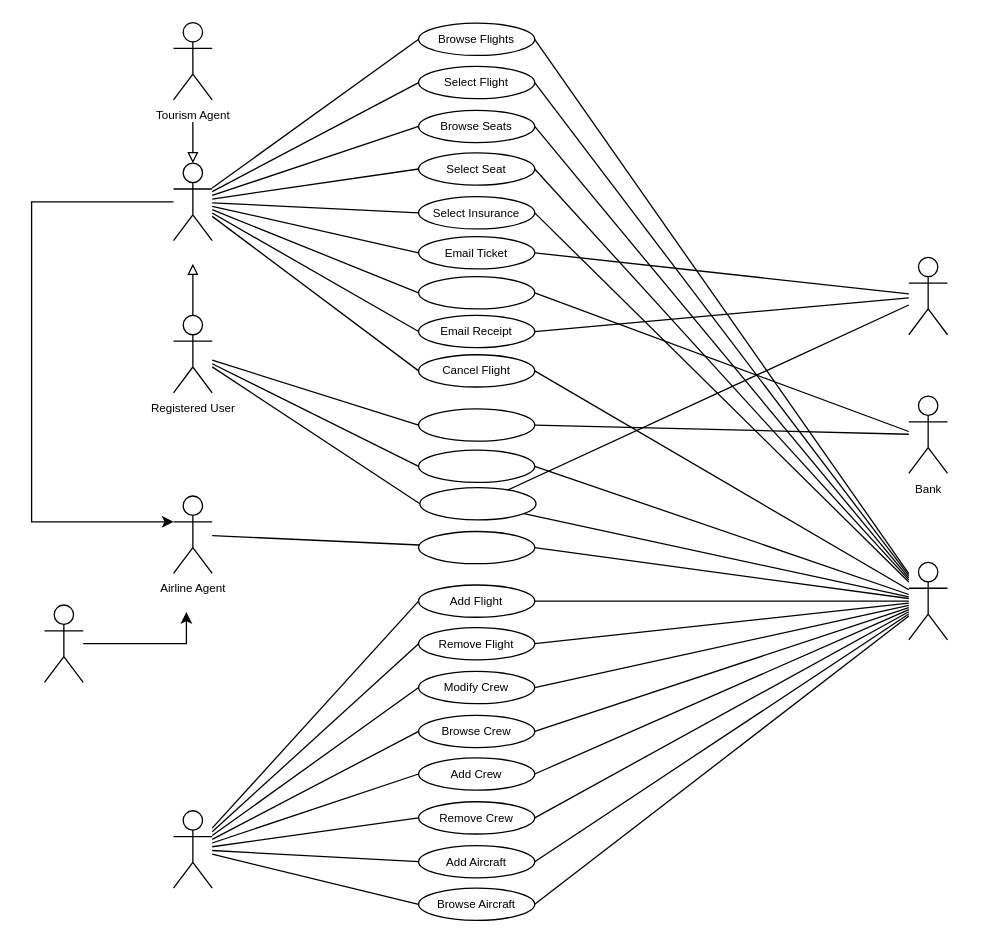
Some shapes in this 984 by 943 pixel diagram are drawn without their labels. Here are the shapes that lost their labels. From the top down, the centre of each, then its label:
the point at 192,201: User
the point at 476,292: Make Payment
the point at 928,295: Email Server
the point at 476,424: Card Application
the point at 476,465: Register Membership
the point at 477,503: Receive Promotion
the point at 476,547: Browse Passengers
the point at 928,600: Database
the point at 63,643: Flight Attendant
the point at 192,848: System Admin
